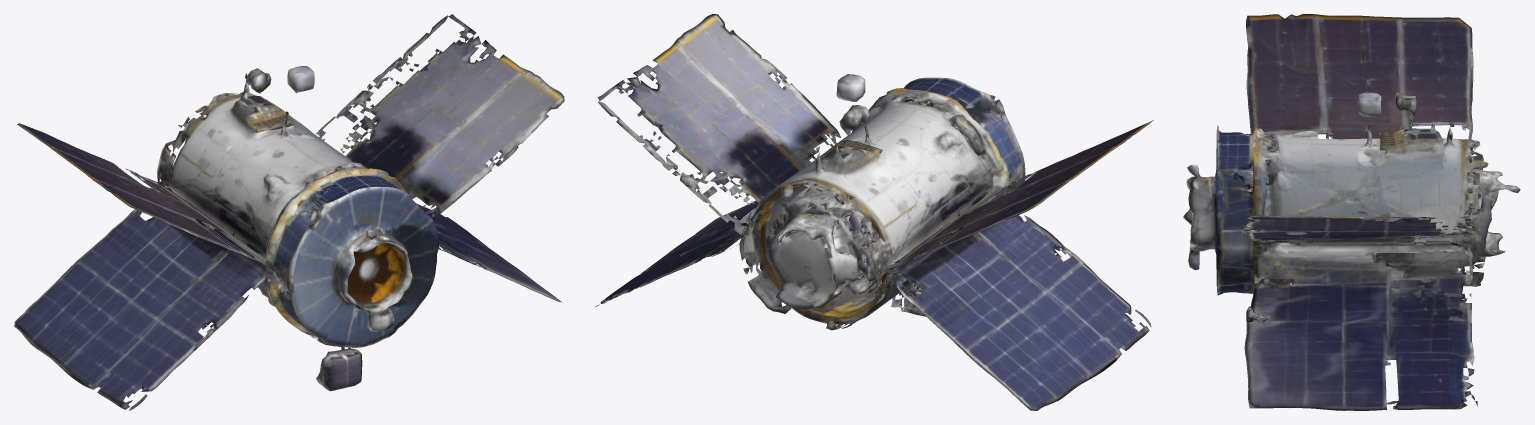
Rendered from abit_satellite.glb.
3 renders of one model, left to right at view 1: azimuth 30°, elevation 25°; view 2: azimuth 150°, elevation 25°; view 3: azimuth 270°, elevation 25°, orthographic. The views are drawn at different scales.
Bounding box in the file's own units: 2.01 × 1.16 × 1.42.
Materials: 1 (1 with a texture image).
